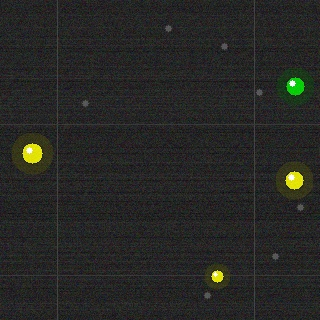green_normal: (284, 75, 306, 97)
yellow_warning: (20, 141, 44, 165), (283, 169, 305, 191), (209, 268, 225, 284)
